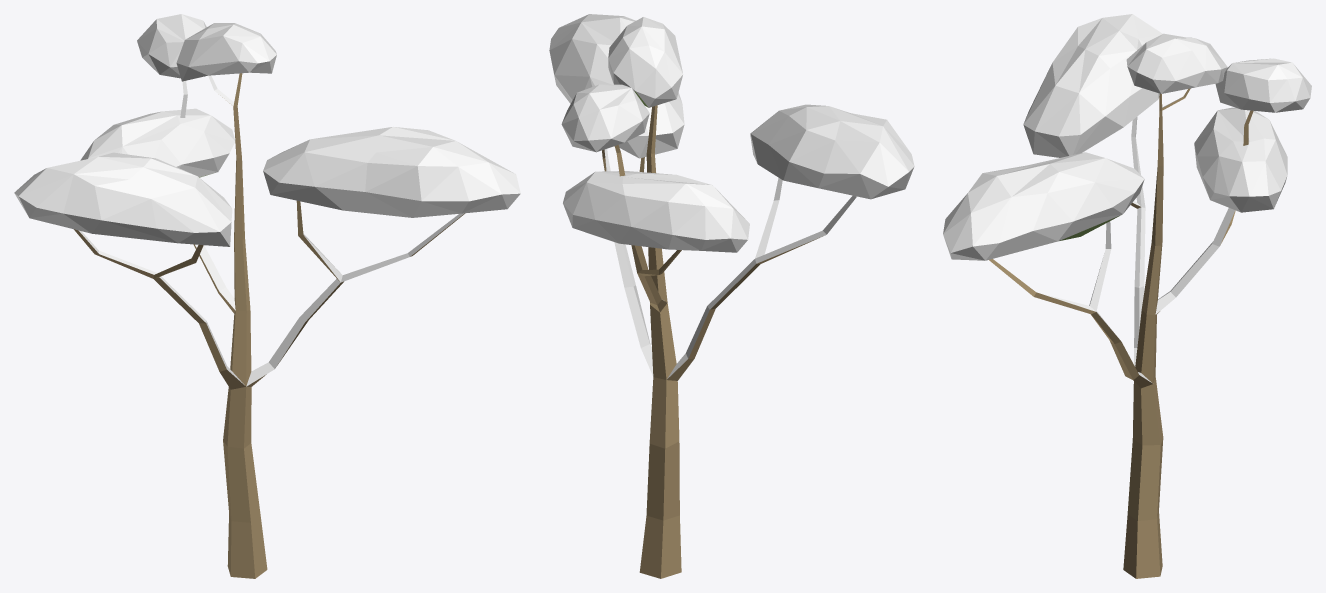
Rendered from Acacia_Tree_l_Snow_04.fbx.
3 views of the same model, side by side, from view 1: azimuth 30°, elevation 25°; view 2: azimuth 150°, elevation 25°; view 3: azimuth 270°, elevation 25° (orthographic). The views are drawn at different scales.
Visible parts, largest first — view 1: Acacia_Tree_l_Snow_04; view 2: Acacia_Tree_l_Snow_04; view 3: Acacia_Tree_l_Snow_04.
Boxes of the visible parts, bbox=[...] form: Acacia_Tree_l_Snow_04: bbox=[14, 14, 520, 578]; Acacia_Tree_l_Snow_04: bbox=[549, 14, 914, 578]; Acacia_Tree_l_Snow_04: bbox=[943, 14, 1311, 578].
Size of the model in its own units: 986 by 1205 by 756.
